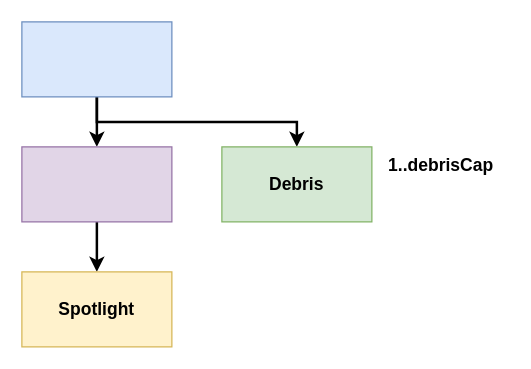
The diagram is 531 pixels wide and 369 high, and some of its shapes have lost their labels. Here are the shapes that lost their labels. From the top down, the box of each, then its label:
(21, 21, 172, 97): Scene
(21, 146, 172, 222): MainCamera
